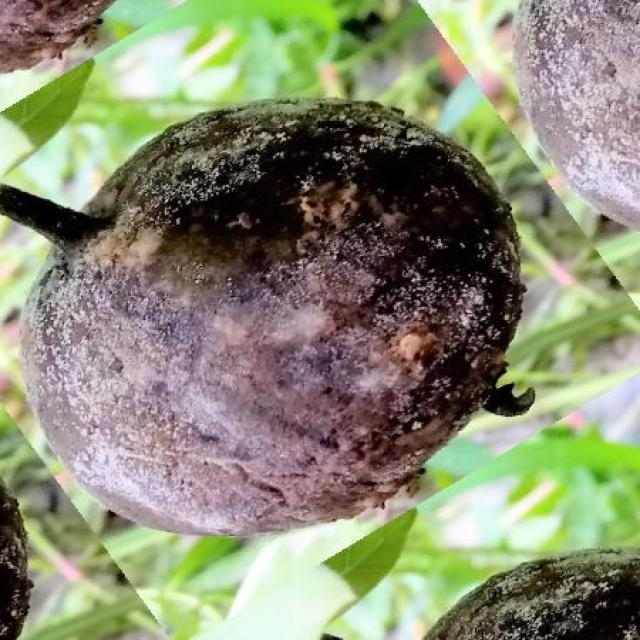Phytopthora: (0, 100, 530, 534), (424, 549, 640, 639)
